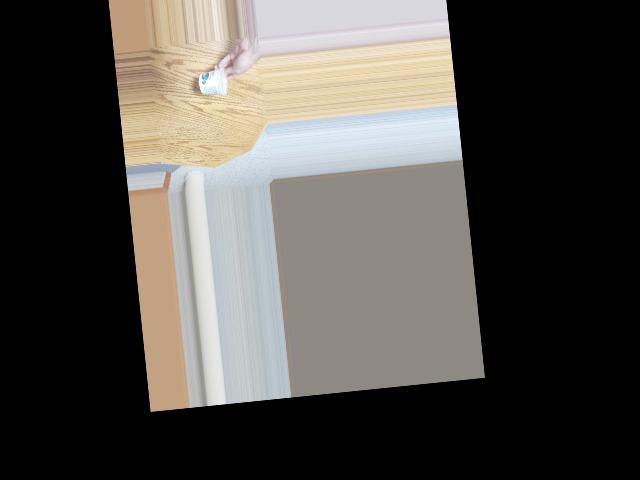cotage: (194, 69, 231, 104)
